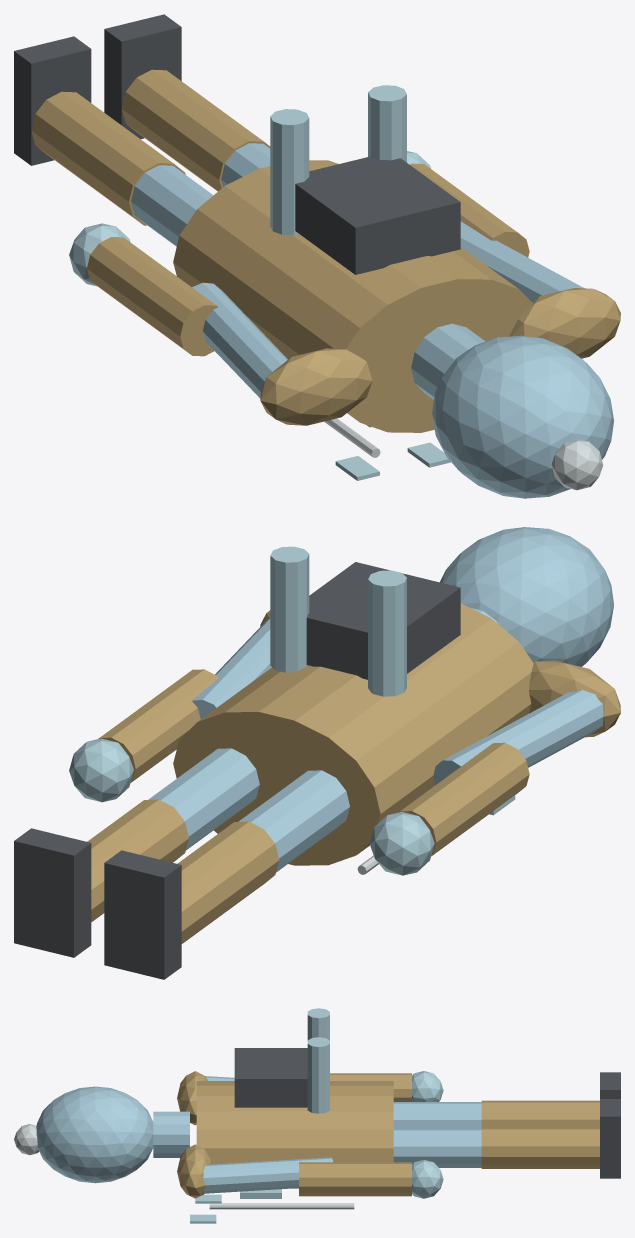
Rendered from SWN-019_venn_ryll.glb.
The picture shows the model from 3 angles, top to bottom: view 1: azimuth 30°, elevation 25°; view 2: azimuth 150°, elevation 25°; view 3: azimuth 270°, elevation 25°; orthographic projection. The views are drawn at different scales.
Visible parts, largest first — view 1: body_spine, head, back_thruster_pack, greave_-1, greave_1, forearm_gauntlet_-1, shoulder_plate_-1, boot_-1, boot_1, shoulder_plate_1, upper_arm_-1, aether_thruster_-1 (+11 smaller); view 2: body_spine, head, back_thruster_pack, boot_-1, boot_1, greave_-1, forearm_gauntlet_-1, thigh_1, thigh_-1, upper_arm_-1, forearm_gauntlet_1, greave_1 (+6 smaller); view 3: body_spine, head, greave_1, back_thruster_pack, forearm_gauntlet_1, greave_-1, thigh_1, upper_arm_1, thigh_-1, aether_thruster_1, boot_1, neck (+10 smaller).
Part boxes in pixels (x1,y1,x2,y2): body_spine: [173, 160, 533, 432]; head: [432, 335, 613, 498]; back_thruster_pack: [295, 156, 460, 274]; greave_-1: [31, 91, 185, 225]; greave_1: [121, 69, 270, 191]; forearm_gauntlet_-1: [87, 237, 218, 356]; shoulder_plate_-1: [260, 348, 372, 425]; boot_-1: [14, 36, 91, 165]; boot_1: [104, 14, 181, 139]; shoulder_plate_1: [509, 288, 620, 358]; upper_arm_-1: [192, 282, 287, 398]; aether_thruster_-1: [270, 109, 309, 235]; body_spine: [173, 603, 533, 865]; head: [440, 527, 613, 666]; back_thruster_pack: [306, 562, 460, 679]; boot_-1: [104, 850, 181, 979]; boot_1: [14, 828, 91, 957]; greave_-1: [177, 821, 279, 943]; forearm_gauntlet_-1: [399, 742, 529, 856]; thigh_1: [148, 748, 259, 850]; thigh_-1: [238, 770, 349, 872]; upper_arm_-1: [433, 690, 603, 784]; forearm_gauntlet_1: [98, 669, 218, 782]; greave_1: [87, 799, 188, 921]; body_spine: [196, 1081, 393, 1188]; head: [36, 1086, 153, 1183]; greave_1: [481, 1127, 599, 1168]; back_thruster_pack: [234, 1048, 307, 1107]; forearm_gauntlet_1: [299, 1162, 411, 1196]; greave_-1: [481, 1100, 599, 1127]; thigh_1: [393, 1128, 481, 1167]; upper_arm_1: [203, 1157, 332, 1193]; thigh_-1: [393, 1102, 481, 1128]; aether_thruster_1: [307, 1037, 329, 1113]; boot_1: [600, 1099, 620, 1178]; neck: [153, 1111, 189, 1157].
Bounding box in the file's own units: 0.9596 × 0.725 × 2.31.
